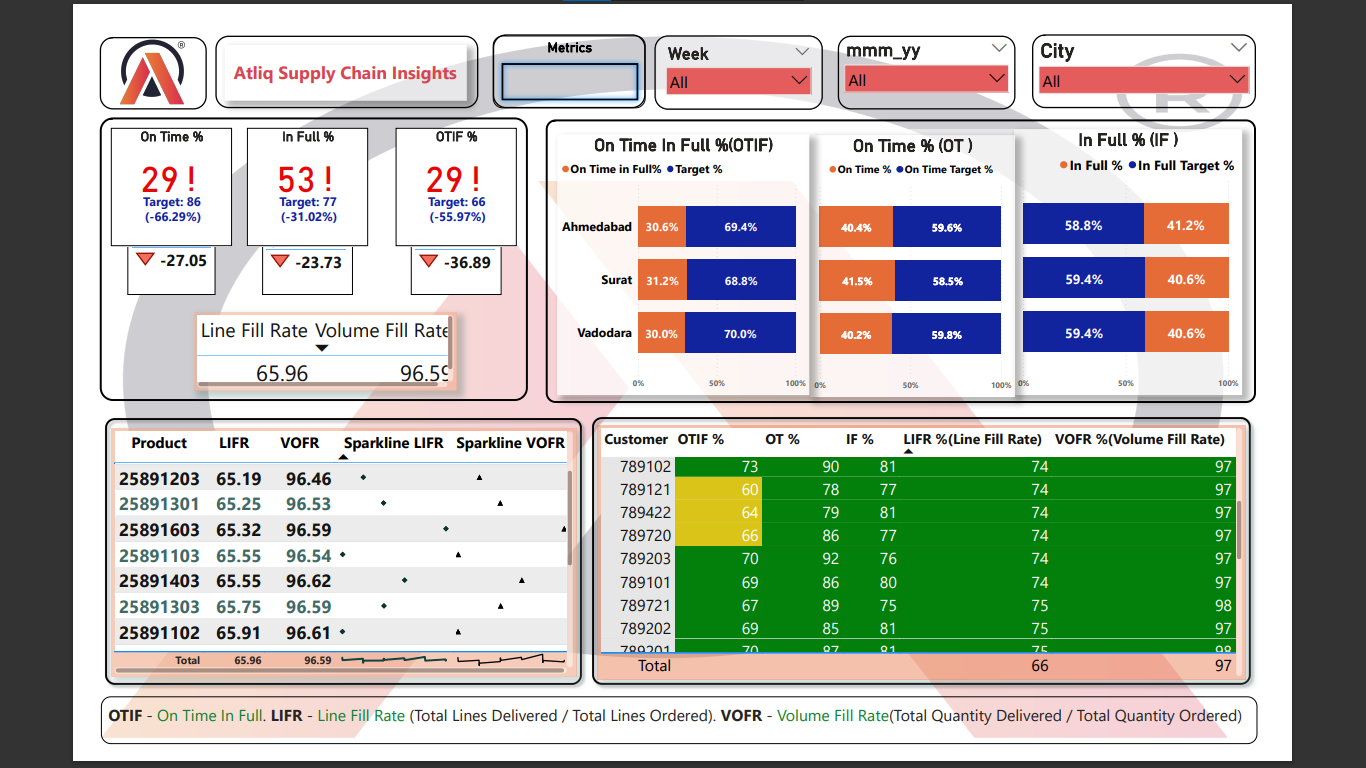

The page's visual inventory and layout, read from the dashboard file:
{"tool":"powerbi","page":{"name":"Dashboad","canvas":[1800,1100],"ordinal":0},"visuals":[{"type":"shape","box":[193.2,23.7,398.2,110.4],"z":0},{"type":"shape","box":[17.5,147.5,647.5,430],"z":0,"group":"g1"},{"type":"shape","box":[692.5,150,1075,430],"z":0,"group":"g7"},{"type":"hundredPercentStackedBarChart","title":"In Full % (IF )     ","fields":{"Category":["dim_customers.city"],"Y":["fact_orders_aggregate.In Full Delivery%","dim_targets_orders.In Full Target"]},"box":[1401.1,165,345.7,402.9],"z":0,"group":"g2"},{"type":"tableEx","fields":{"Values":["mesures.INFULL DIFFERNCE"]},"box":[263.2,314.8,137.4,101.6],"z":0,"group":"g10"},{"type":"shape","box":[740.3,594.7,1020.2,304.6],"z":0,"group":"g6"},{"type":"shape","box":[0,595.4,742.5,422.2],"z":0,"group":"g4"},{"type":"slicer","fields":{"Values":["dim_customers.city"]},"box":[1429.2,23.7,339.1,110.4],"z":1000},{"type":"hundredPercentStackedBarChart","title":"On Time % (OT )","fields":{"Category":["dim_customers.city"],"Y":["fact_orders_aggregate.On Time Delivery%","dim_targets_orders.On Time Target"]},"box":[1093.3,173.8,309.4,397.5],"z":1000,"group":"g2"},{"type":"tableEx","title":"VOFR","fields":{"Values":["fact_order_lines.Line Fill Rate","fact_order_lines.Volume Fill Rate"]},"box":[159.1,442.2,397.7,118.8],"z":1000,"group":"g8"},{"type":"slicer","fields":{"Values":["dim_date.week_no"]},"box":[857.5,23.7,254.3,110.4],"z":2000},{"type":"hundredPercentStackedBarChart","title":"On Time In Full %(OTIF)","fields":{"Y":["fact_orders_aggregate.On Time in Full%","dim_targets_orders.On Time in Full Target"],"Category":["dim_customers.city"]},"box":[710.5,173.5,381.5,394],"z":2000,"group":"g2"},{"type":"tableEx","fields":{"Values":["fact_order_lines.customer_id","dim_targets_orders.otif_target%","dim_targets_orders.ontime_target%","dim_targets_orders.infull_target%","fact_order_lines.Line Fill Rate","fact_order_lines.Volume Fill Rate"]},"box":[756.2,614.7,987.7,402],"z":2000,"group":"g6"},{"type":"slicer","fields":{"Values":["dim_date.mmm_yy"]},"box":[1135.5,23.7,268.1,110.4],"z":3000},{"type":"tableEx","fields":{"Values":["fact_order_lines.product_id","fact_order_lines.Line Fill Rate","fact_order_lines.Volume Fill Rate","SparklineData(fact_order_lines.Line Fill Rate_[dim_products.product_id])","SparklineData(fact_order_lines.Volume Fill Rate_[dim_products.product_id])"]},"box":[17.3,619.9,707.9,377.3],"z":3000,"group":"g4"},{"type":"image","box":[17.7,23.7,161.6,110.4],"z":4000},{"type":"actionButton","title":"Metrics ","box":[613.1,23.7,230.6,110.4],"z":5000},{"type":"group","id":"g1","title":"Group 6","box":[17.5,147.5,647.5,430],"z":5000,"group":"g5"},{"type":"group","id":"g2","title":"Group 1","box":[710.5,165,1036.3,406.2],"z":5000,"group":"g7"},{"type":"group","id":"g3","title":"Group 10","box":[0,594.7,1762.4,504.7],"z":6000},{"type":"group","id":"g4","title":"Group 7","box":[0,595.4,742.5,402.2],"z":6000,"group":"g3"},{"type":"group","id":"g5","title":"Group 11","box":[17.5,147.5,1750,432.5],"z":7000},{"type":"group","id":"g6","title":"Group 8","box":[2,594.7,1760.4,504.7],"z":7000,"group":"g3"},{"type":"textbox","box":[207,38,366,84],"z":8000},{"type":"group","id":"g7","title":"Group 9","box":[692.5,150,1075,430],"z":8000,"group":"g5"},{"type":"textbox","box":[2,1026.6,1760.4,72.4],"z":8001,"group":"g6"},{"type":"group","id":"g8","title":"Group 5","box":[34.2,163.5,614.2,397.6],"z":9000,"group":"g1"},{"type":"kpi","title":"In Full % ","fields":{"Goal":["dim_targets_orders.In Full Target"],"TrendLine":["dim_date.date"],"Indicator":["fact_orders_aggregate.In Full Delivery%"]},"box":[240.3,163.5,183.2,179.3],"z":9000,"group":"g10"},{"type":"tableEx","fields":{"Values":["mesures.OTIF Difference"]},"box":[488.1,314.8,137.4,101.6],"z":9000,"group":"g11"},{"type":"group","id":"g9","title":"Group 2","box":[34.2,163.5,183.2,252.8],"z":10000,"group":"g8"},{"type":"group","id":"g10","title":"Group 3","box":[240.3,163.5,183.2,252.8],"z":11000,"group":"g8"},{"type":"tableEx","fields":{"Values":["mesures.THE TARGET DIFFRENCE"]},"box":[59.2,314.8,133.2,101.6],"z":11250,"group":"g9"},{"type":"kpi","title":"On Time % ","fields":{"Goal":["dim_targets_orders.On Time Target"],"Indicator":["fact_orders_aggregate.On Time in Full%"],"TrendLine":["dim_date.date"]},"box":[34.2,163.5,183.2,179.3],"z":11500,"group":"g9"},{"type":"kpi","title":"OTIF % ","fields":{"Goal":["dim_targets_orders.On Time in Full Target"],"TrendLine":["dim_date.date"],"Indicator":["fact_orders_aggregate.On Time in Full%"]},"box":[465.2,163.5,183.2,179.3],"z":12000,"group":"g11"},{"type":"group","id":"g11","title":"Group 4","box":[465.2,163.5,183.2,252.8],"z":12001,"group":"g8"}]}

Visuals, with their boxes on the page's 1800x1100 design canvas (x1, y1, x2, y2). These are canvas units, not pixel positions in the 1366x768 screenshot, which may show the page scaled, cropped or inside an application window:
shape: l=193, t=24, r=591, b=134
shape: l=18, t=148, r=665, b=578
shape: l=692, t=150, r=1768, b=580
"In Full % (IF )     " hundredPercentStackedBarChart: l=1401, t=165, r=1747, b=568
tableEx - mesures.INFULL DIFFERNCE: l=263, t=315, r=401, b=416
shape: l=740, t=595, r=1760, b=899
shape: l=0, t=595, r=742, b=1018
slicer - dim_customers.city: l=1429, t=24, r=1768, b=134
"On Time % (OT )" hundredPercentStackedBarChart: l=1093, t=174, r=1403, b=571
"VOFR" tableEx: l=159, t=442, r=557, b=561
slicer - dim_date.week_no: l=858, t=24, r=1112, b=134
"On Time In Full %(OTIF)" hundredPercentStackedBarChart: l=710, t=174, r=1092, b=568
tableEx - fact_order_lines.customer_id x dim_targets_orders.otif_target%: l=756, t=615, r=1744, b=1017
slicer - dim_date.mmm_yy: l=1136, t=24, r=1404, b=134
tableEx - fact_order_lines.product_id x fact_order_lines.Line Fill Rate: l=17, t=620, r=725, b=997
image: l=18, t=24, r=179, b=134
"Metrics " actionButton: l=613, t=24, r=844, b=134
"Group 6" group: l=18, t=148, r=665, b=578
"Group 1" group: l=710, t=165, r=1747, b=571
"Group 10" group: l=0, t=595, r=1762, b=1099
"Group 7" group: l=0, t=595, r=742, b=998
"Group 11" group: l=18, t=148, r=1768, b=580
"Group 8" group: l=2, t=595, r=1762, b=1099
textbox: l=207, t=38, r=573, b=122
"Group 9" group: l=692, t=150, r=1768, b=580
textbox: l=2, t=1027, r=1762, b=1099
"Group 5" group: l=34, t=164, r=648, b=561
"In Full % " kpi: l=240, t=164, r=424, b=343
tableEx - mesures.OTIF Difference: l=488, t=315, r=626, b=416
"Group 2" group: l=34, t=164, r=217, b=416
"Group 3" group: l=240, t=164, r=424, b=416
tableEx - mesures.THE TARGET DIFFRENCE: l=59, t=315, r=192, b=416
"On Time % " kpi: l=34, t=164, r=217, b=343
"OTIF % " kpi: l=465, t=164, r=648, b=343
"Group 4" group: l=465, t=164, r=648, b=416
